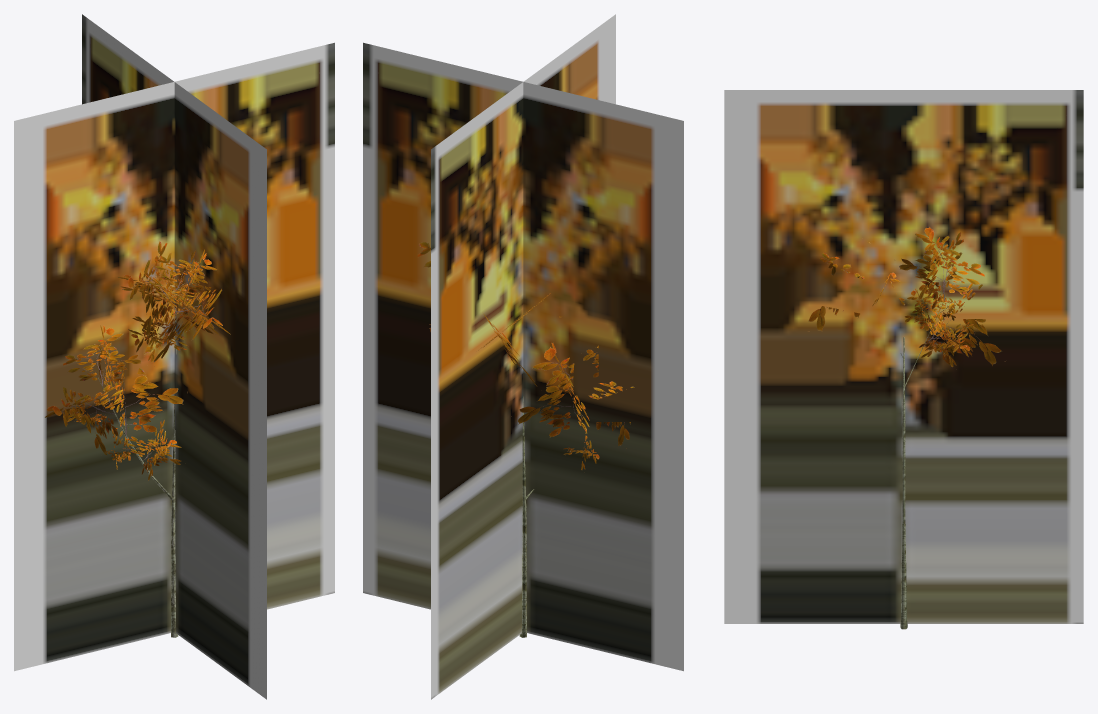
The model's file is Tree-Beech4B-mobile.fbx.
3 views of the same model, side by side, from view 1: azimuth 30°, elevation 25°; view 2: azimuth 150°, elevation 25°; view 3: azimuth 270°, elevation 25° (orthographic). The views are drawn at different scales.
Parts seen in each view (by area): view 1: Billboard-BeechB, Tree-Beech4B-mobile_LOD0; view 2: Billboard-BeechB, Tree-Beech4B-mobile_LOD0; view 3: Billboard-BeechB, Tree-Beech4B-mobile_LOD0.
Part boxes in pixels (x1,y1,x2,y2): Billboard-BeechB: (14,14,334,699); Tree-Beech4B-mobile_LOD0: (45,241,230,637); Billboard-BeechB: (363,14,683,699); Tree-Beech4B-mobile_LOD0: (417,242,634,637); Billboard-BeechB: (724,90,1083,623); Tree-Beech4B-mobile_LOD0: (808,227,1005,629).
Size of what is drawn, in the model's own units: 676 by 1116 by 676.
